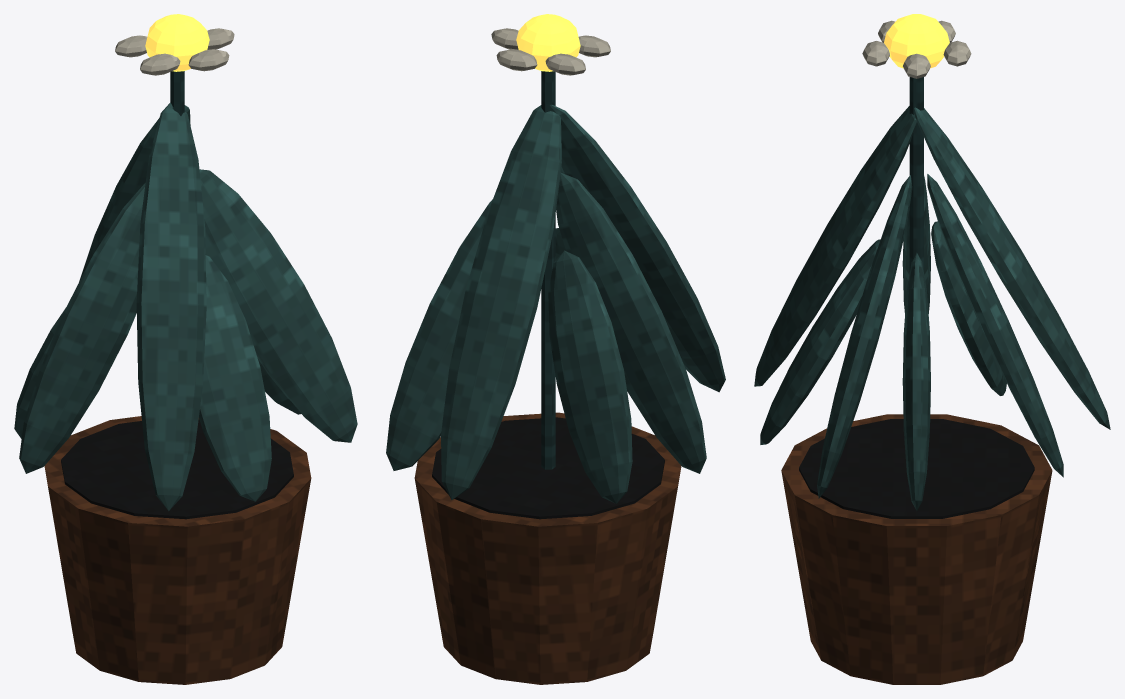
File: salve_plant.glb
3 views of the same model, side by side, from view 1: azimuth 30°, elevation 25°; view 2: azimuth 150°, elevation 25°; view 3: azimuth 270°, elevation 25° (orthographic).
Parts seen in each view (by area): view 1: salve_plant; view 2: salve_plant; view 3: salve_plant.
Boxes of the visible parts, box(x1,y1,x2,y2) form: salve_plant: box(14, 14, 357, 684); salve_plant: box(386, 14, 725, 684); salve_plant: box(754, 14, 1110, 684).
Bounding box in the file's own units: 0.2944 × 0.584 × 0.3023.
6 materials, 6 textured.
